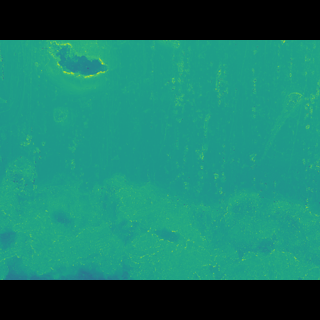Loch: (0, 157, 320, 250), (37, 70, 122, 105)
